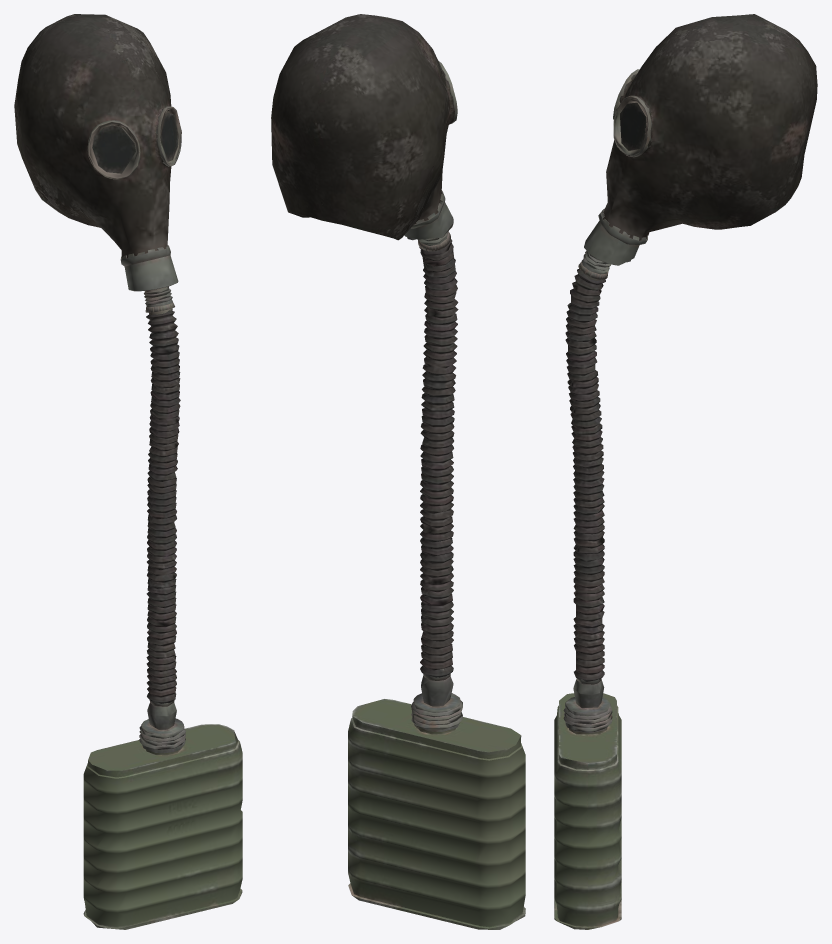
Rendered from old_gas_mask.glb.
3 renders of one model, left to right at view 1: azimuth 30°, elevation 25°; view 2: azimuth 150°, elevation 25°; view 3: azimuth 270°, elevation 25°, orthographic. The views are drawn at different scales.
Visible parts, largest first — view 1: old_gas_mask; view 2: old_gas_mask; view 3: old_gas_mask.
Part boxes in pixels (box(x1,y1,x2,y2)): old_gas_mask: box(14, 14, 242, 929); old_gas_mask: box(271, 14, 525, 929); old_gas_mask: box(554, 14, 817, 929).
Bounding box in the file's own units: 0.2105 × 1.13 × 0.3082.
1 material, 1 textured.
